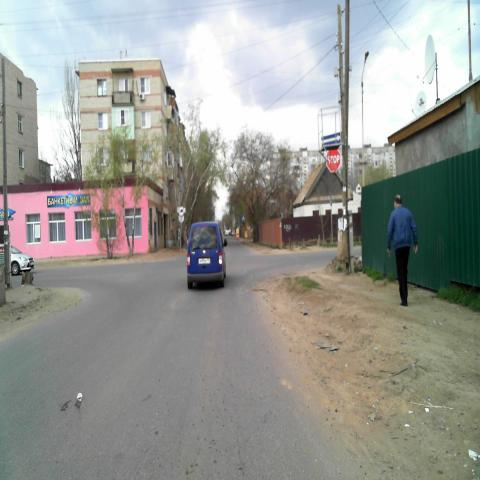5_7_1: (322, 132, 342, 147)
